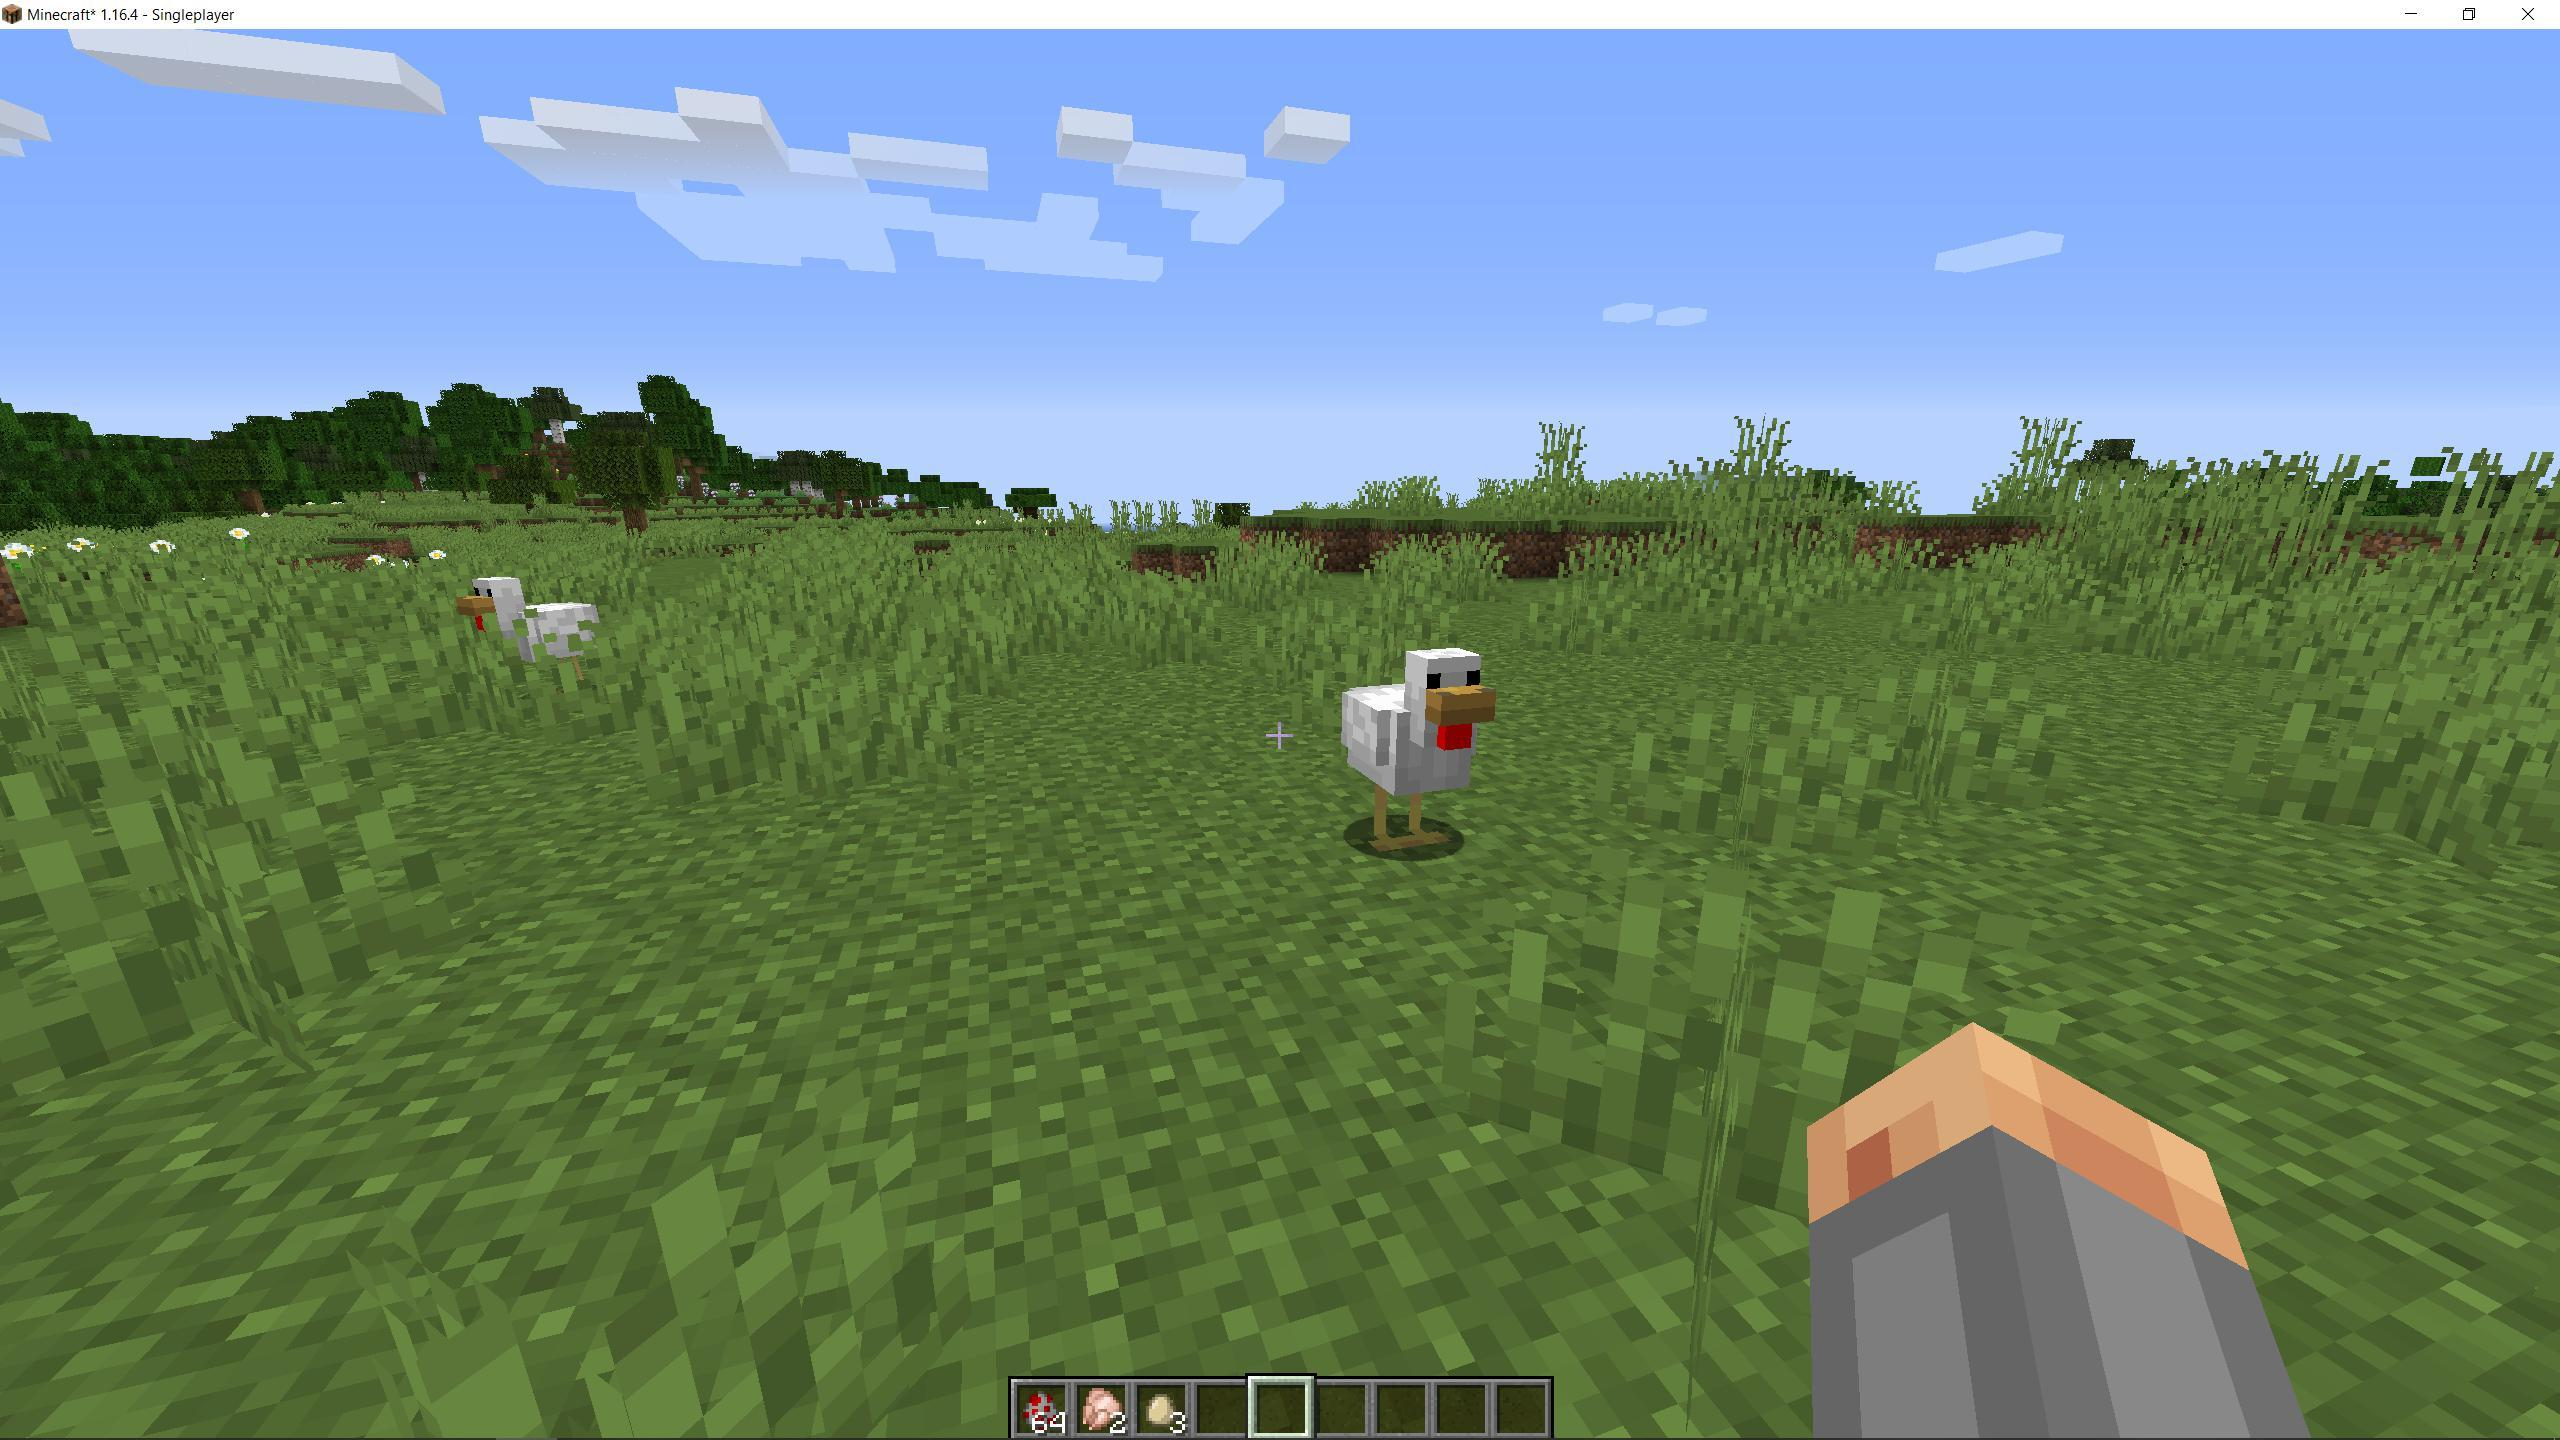chicken: (1326, 644, 1510, 870), (462, 564, 622, 702)
